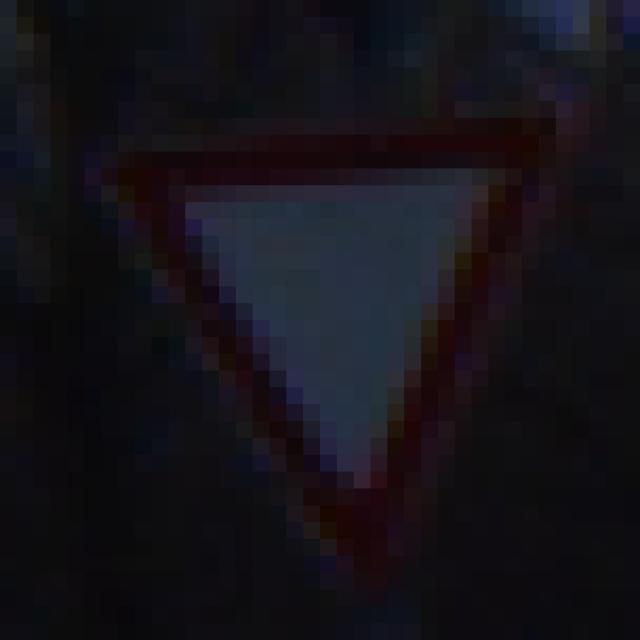Give Way: (85, 102, 557, 557)
